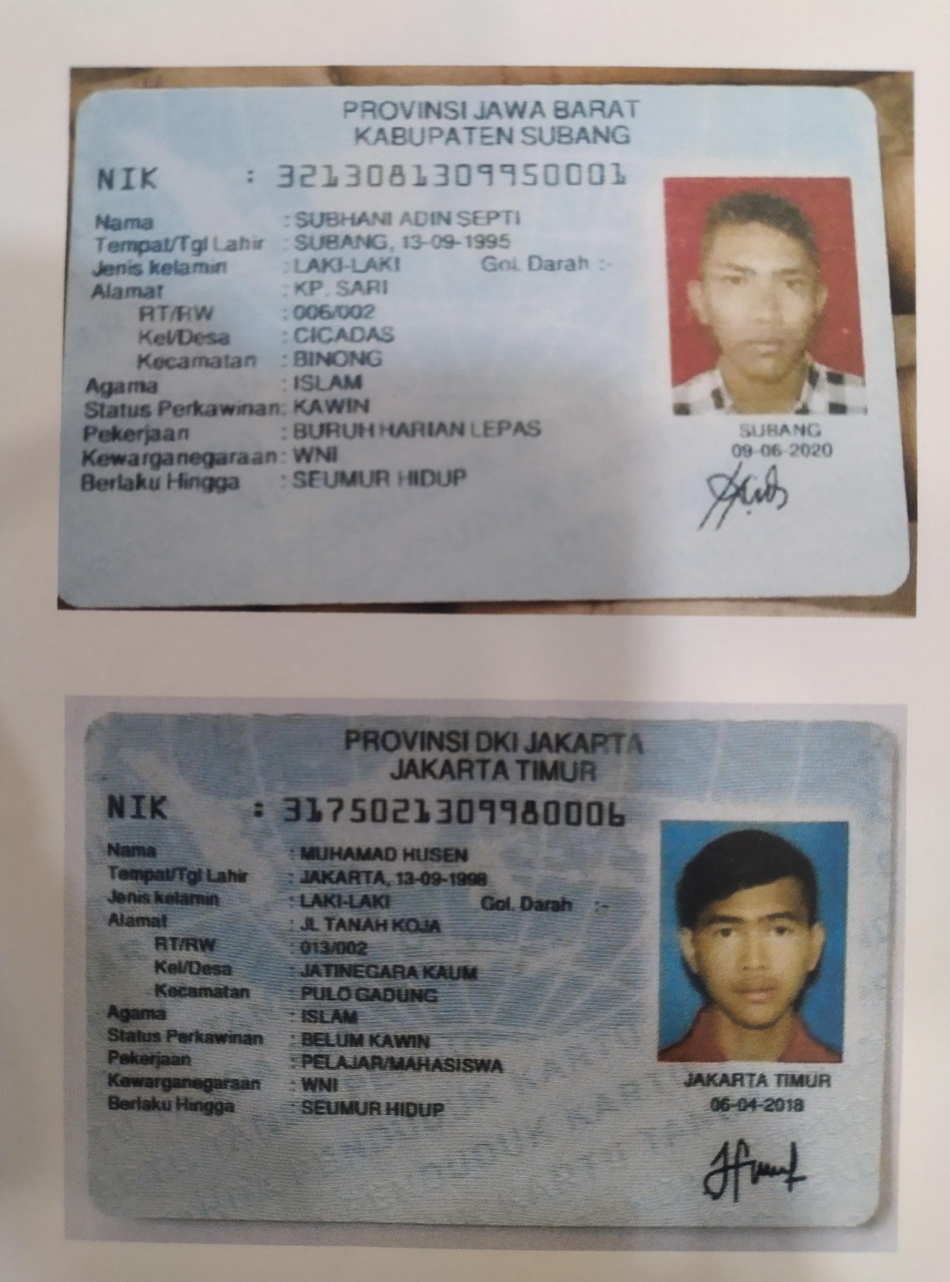ktp: (67, 95, 897, 585), (92, 713, 886, 1215)
